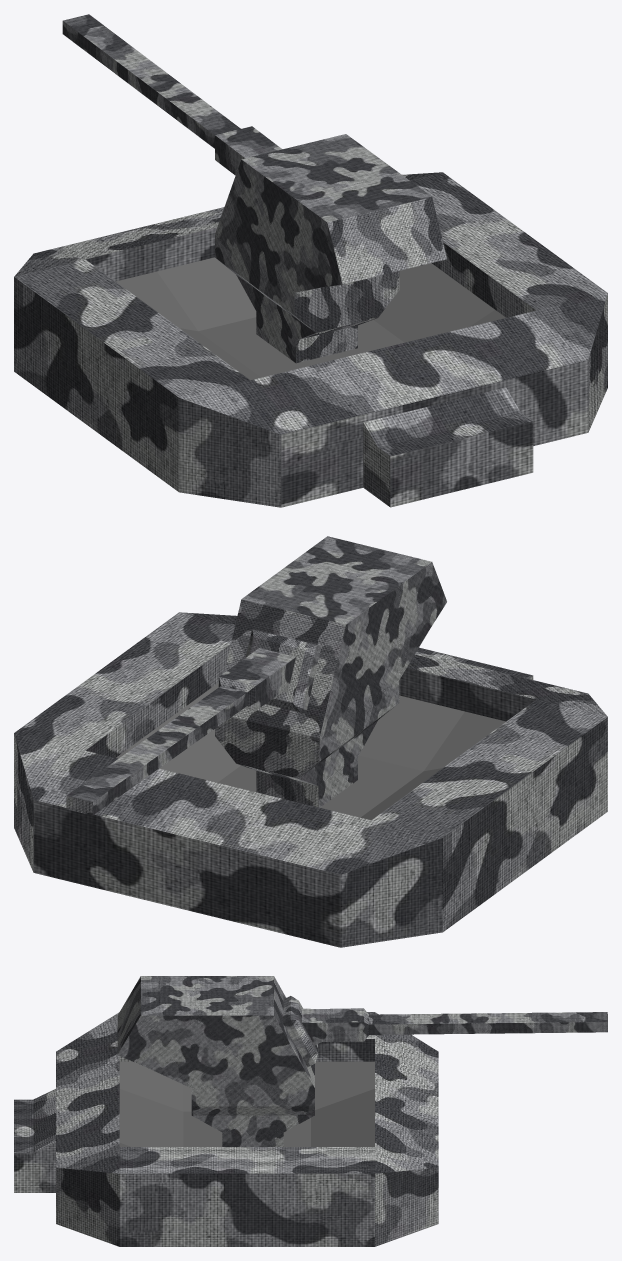
File: defence.fbx
3 views of the same model, one above another, from view 1: azimuth 30°, elevation 25°; view 2: azimuth 150°, elevation 25°; view 3: azimuth 270°, elevation 25° (orthographic). The views are drawn at different scales.
Visible parts, largest first — view 1: Cube.001, Cube; view 2: Cube.001, Cube; view 3: Cube.001, Cube.
Part boxes in pixels (<box>): Cube.001: <box>14,172,607,507</box>; Cube: <box>62,14,446,363</box>; Cube.001: <box>14,612,607,947</box>; Cube: <box>66,536,446,815</box>; Cube.001: <box>14,1012,438,1246</box>; Cube: <box>117,976,607,1146</box>.
Bounding box in the file's own units: 1033 × 507 × 1604.
2 materials, 1 textured.
